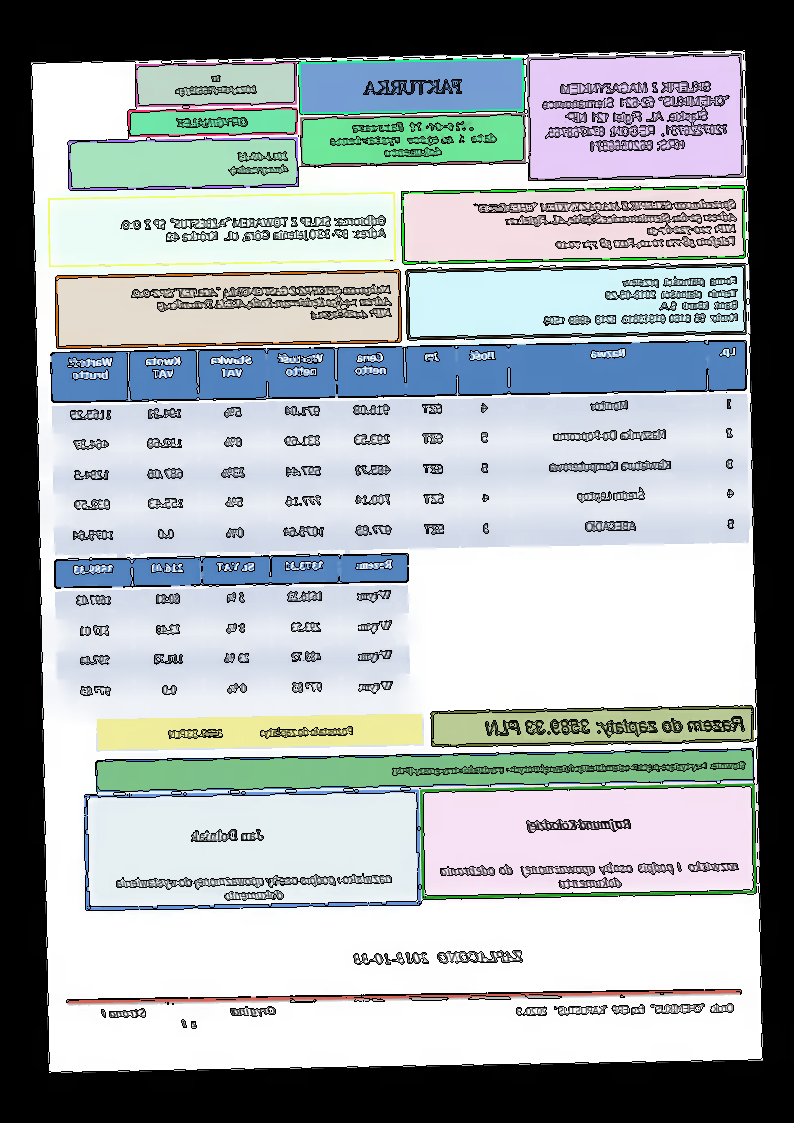Table: (49, 339, 751, 556), (53, 551, 412, 712)
TextBox: (470, 196, 741, 254), (539, 78, 732, 155), (128, 281, 394, 325), (542, 273, 741, 327), (439, 859, 741, 892), (115, 870, 394, 904), (117, 213, 389, 245), (327, 119, 499, 161), (391, 758, 749, 778), (483, 712, 747, 739), (99, 1004, 278, 1031), (515, 1000, 735, 1018), (353, 948, 524, 968), (169, 724, 355, 741), (173, 72, 258, 99), (362, 76, 466, 98), (526, 816, 634, 834), (227, 149, 291, 177), (187, 826, 266, 846), (174, 114, 251, 130)
